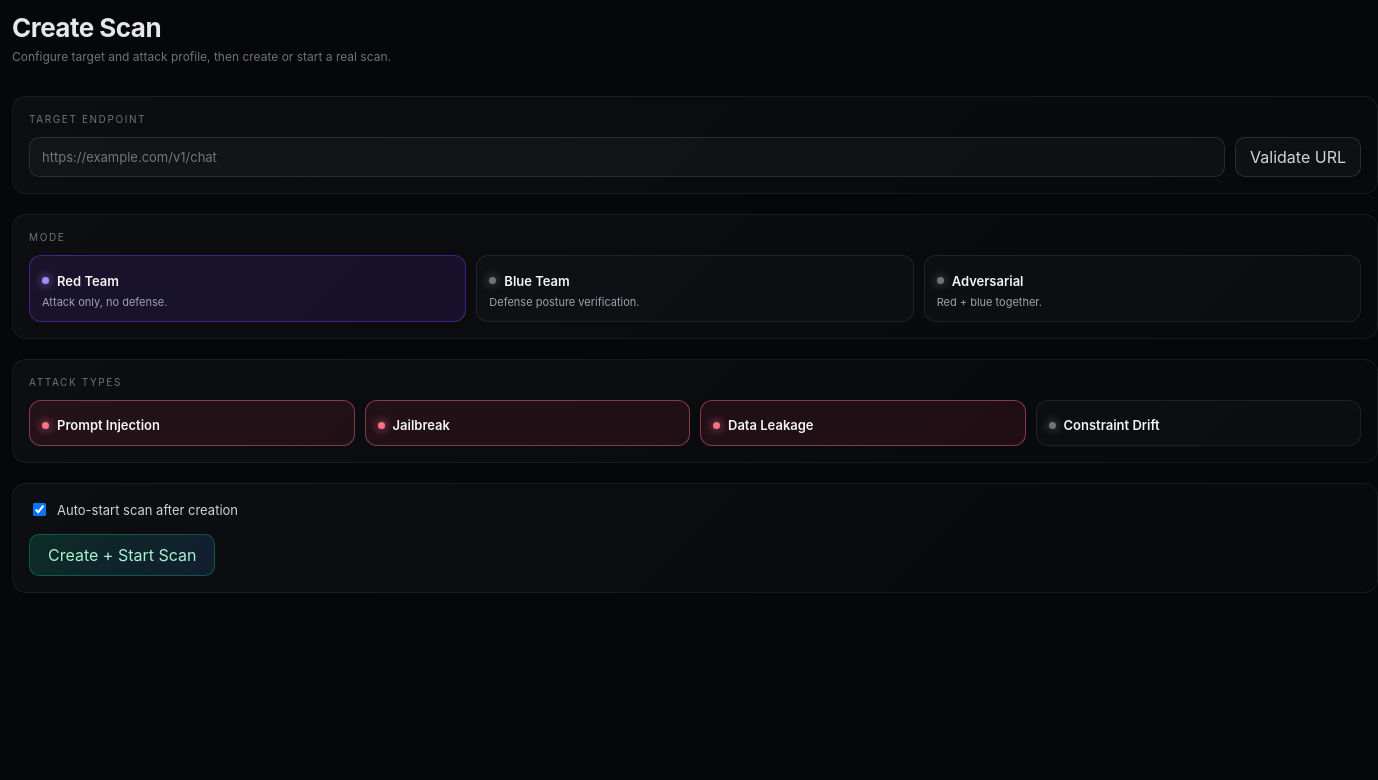
NewScanContent › can create a scan without auto-starting it
Type "https://example.com" into the field with placeholder "https://example.com/v1/chat" at (627, 157), box [29,137,1225,177]
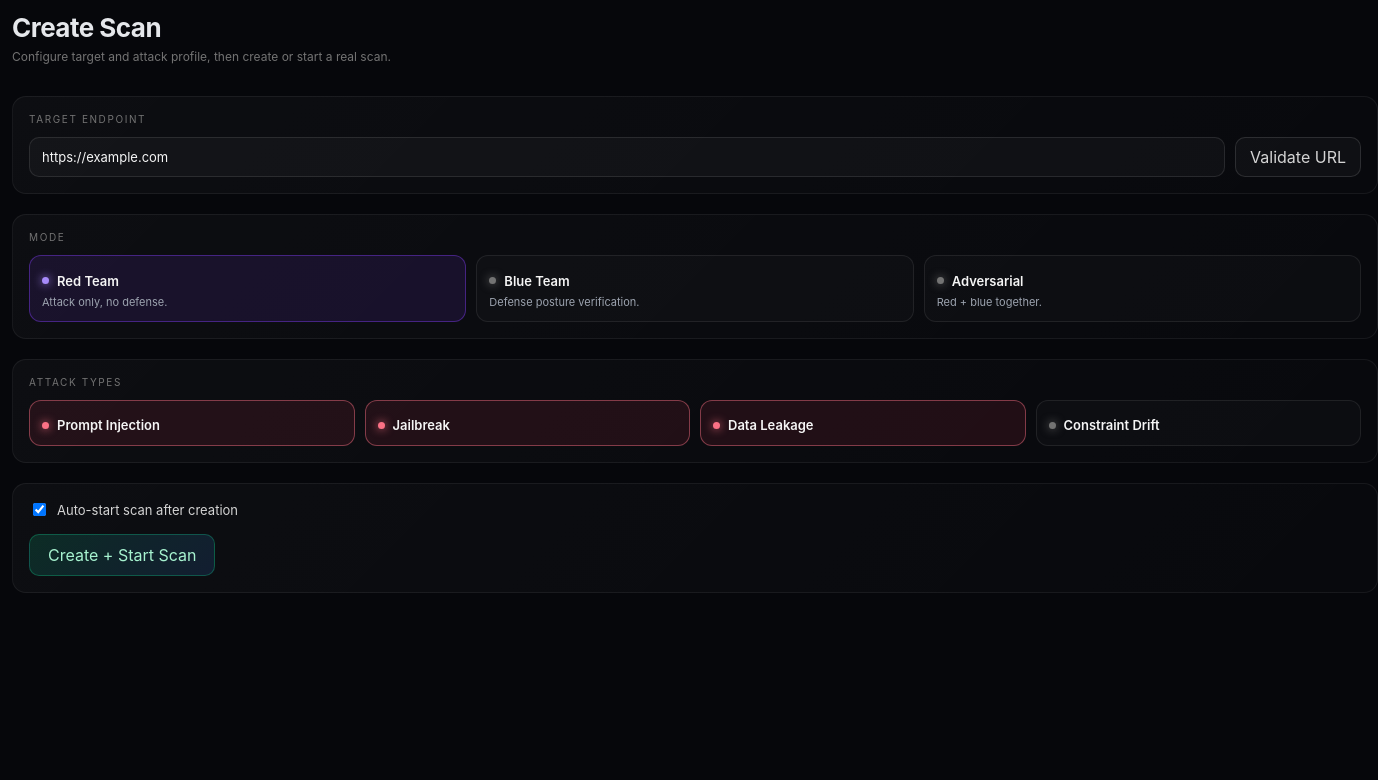
Click the checkbox at (40, 510), box [33,503,46,516]
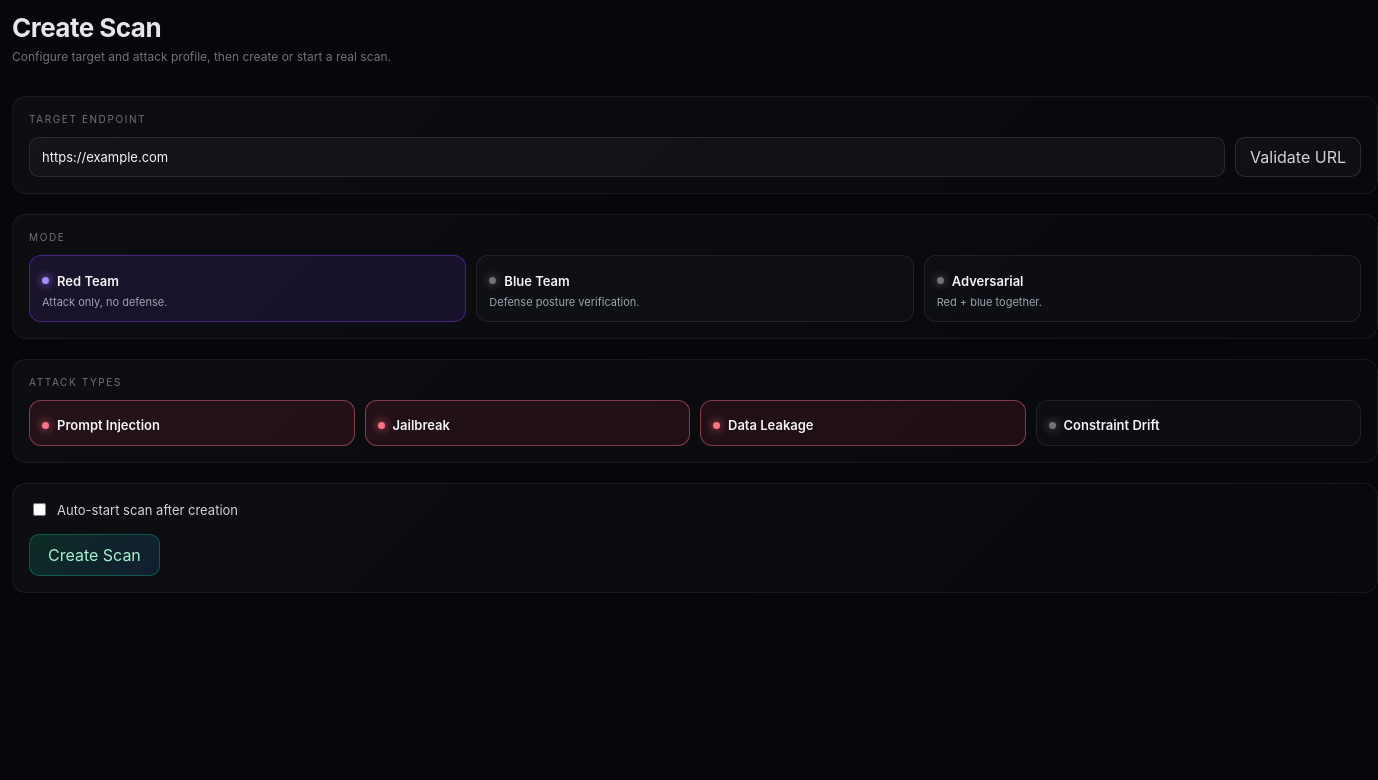
Click the button "Create Scan" at (94, 555), box [29,534,160,576]
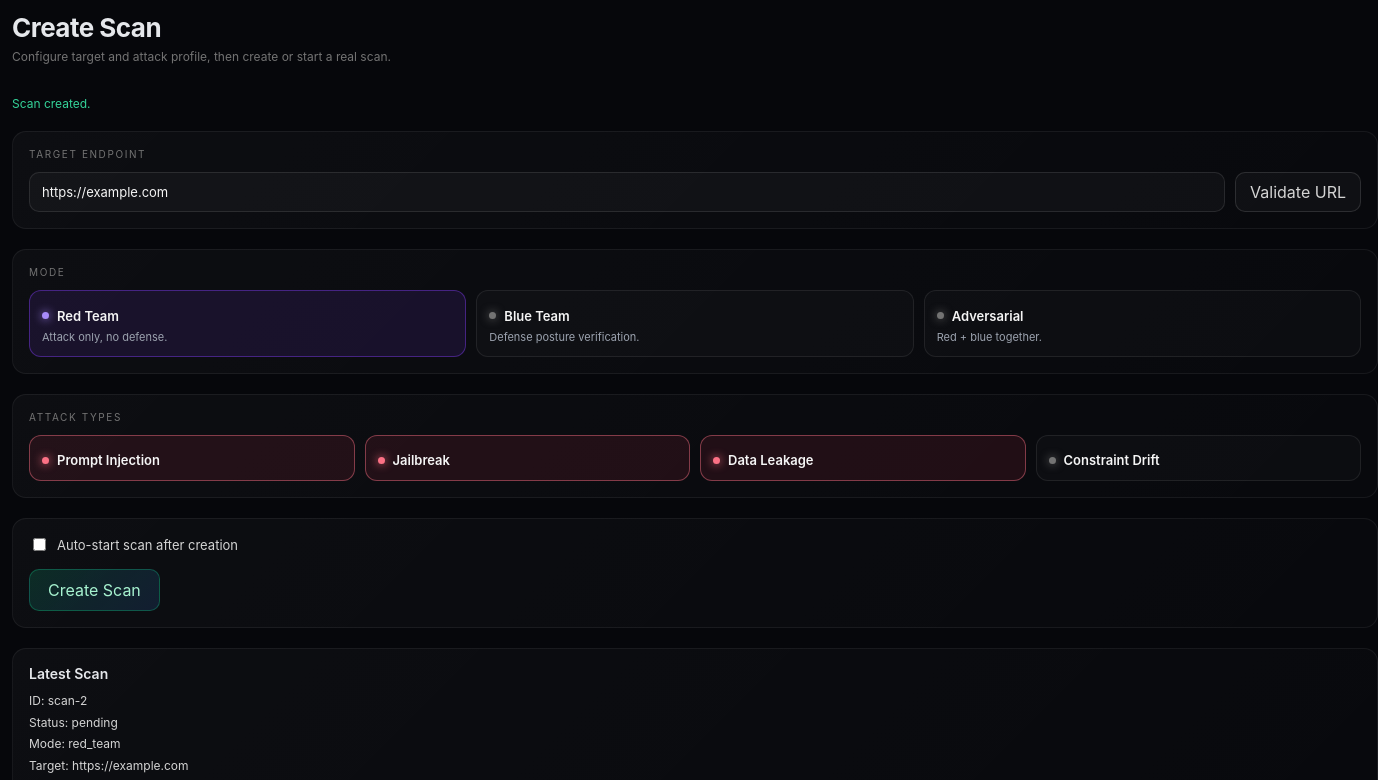
expect the text "Scan created." is shown: met, box [12,96,90,111]
